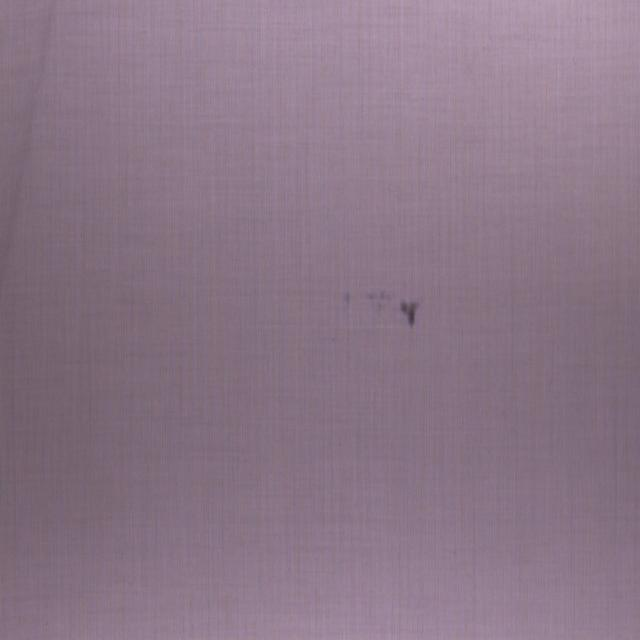dirty: (402, 300, 419, 328), (344, 292, 350, 306)
